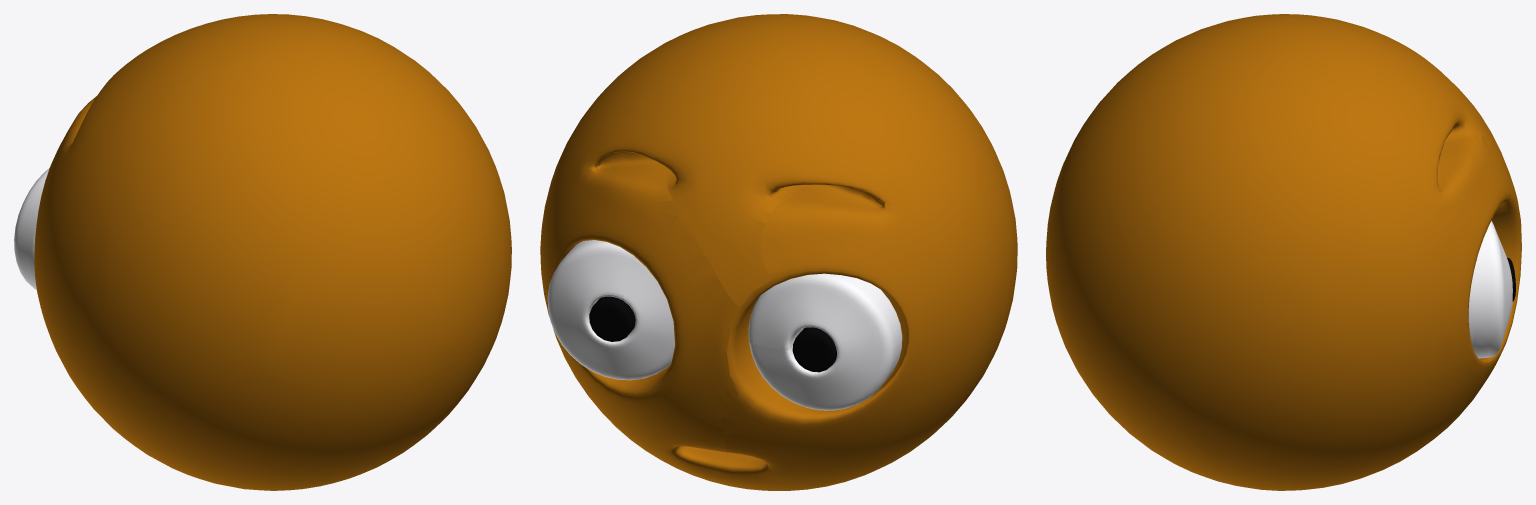
File: surprissed 3DS.fbx
3 renders of one model, left to right at view 1: azimuth 30°, elevation 25°; view 2: azimuth 150°, elevation 25°; view 3: azimuth 270°, elevation 25°, orthographic.
Visible parts, largest first — view 1: Group13301, Group002; view 2: Group13301, Group002, ZBrush_de0, ZBrush_def, Group1; view 3: Group13301, ZBrush_de0.
Boxes of the visible parts, x1,y1,x2,y2 form: Group13301: (34,14,511,490); Group002: (14,168,49,289); Group13301: (540,14,1017,490); Group002: (748,273,902,410); ZBrush_de0: (547,240,674,380); ZBrush_def: (589,296,635,341); Group1: (792,327,836,372); Group13301: (1046,14,1521,490); ZBrush_de0: (1468,221,1512,358).
Size of the model in its own units: 57.29 by 57.3 by 57.24.
